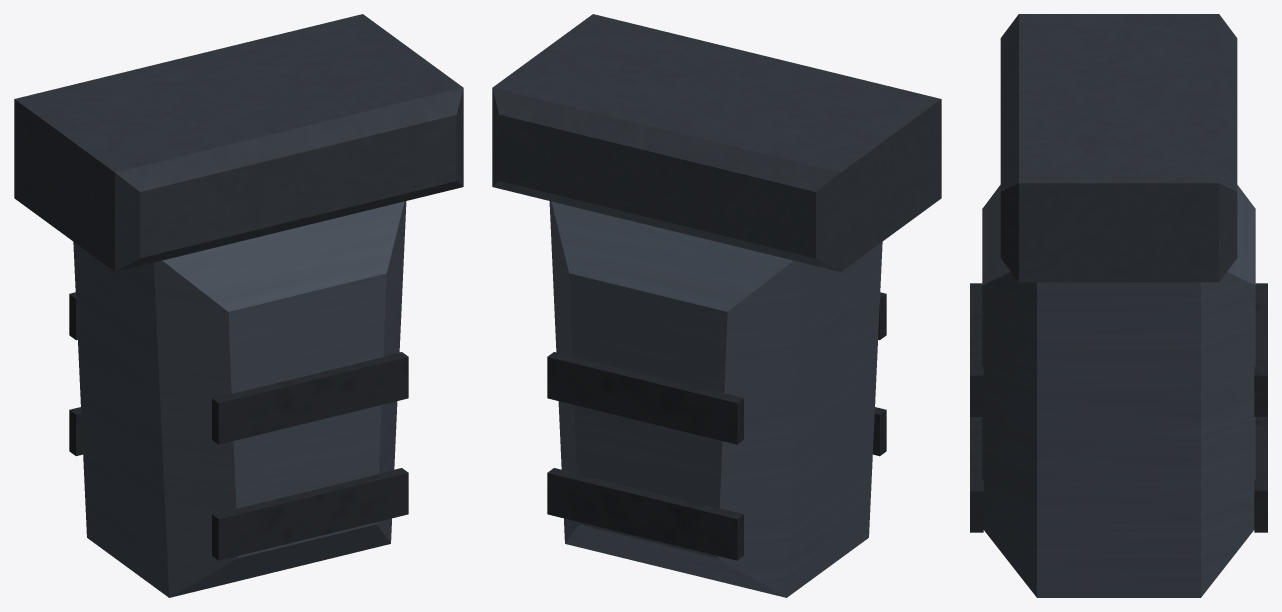
The model's file is grip_stubby_v2.glb.
3 views of the same model, side by side, from view 1: azimuth 30°, elevation 25°; view 2: azimuth 150°, elevation 25°; view 3: azimuth 270°, elevation 25° (orthographic).
Parts seen in each view (by area): view 1: grip_stubby_mesh; view 2: grip_stubby_mesh; view 3: grip_stubby_mesh.
Boxes of the visible parts, bbox=[...] form: grip_stubby_mesh: bbox=[14, 14, 463, 597]; grip_stubby_mesh: bbox=[492, 14, 941, 597]; grip_stubby_mesh: bbox=[970, 14, 1267, 597].
Size of the model in its own units: 0.044 by 0.054 by 0.0327.
3 materials, 3 textured.
